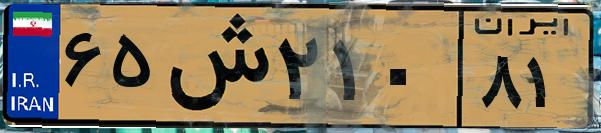0: (385, 28, 445, 110)
1: (330, 28, 385, 110), (525, 38, 570, 115)
2: (270, 28, 330, 110)
5: (110, 28, 158, 98)
6: (57, 26, 110, 100)
8: (475, 38, 525, 113)
ش: (158, 12, 270, 120)
